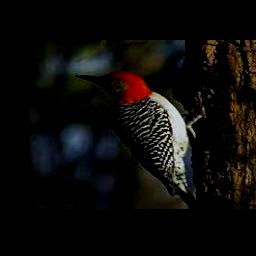Woodpecker: (75, 71, 201, 209)
